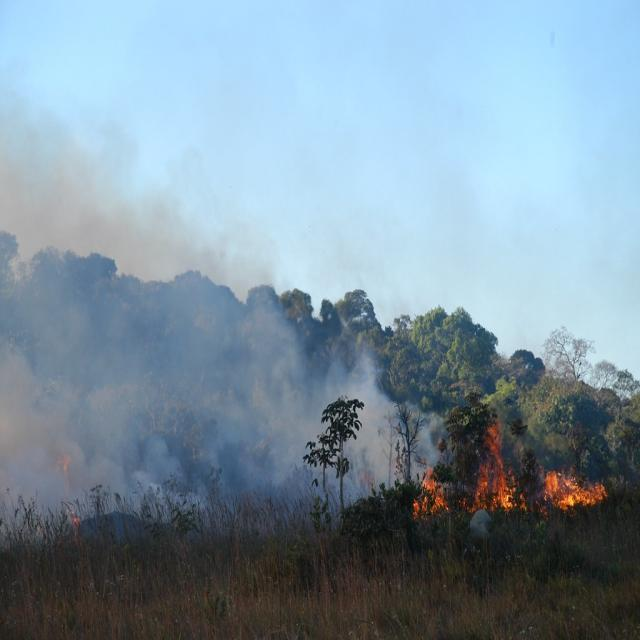Fire: (458, 416, 528, 514), (534, 462, 609, 522), (410, 457, 450, 519)
Smoke: (1, 89, 450, 548)
